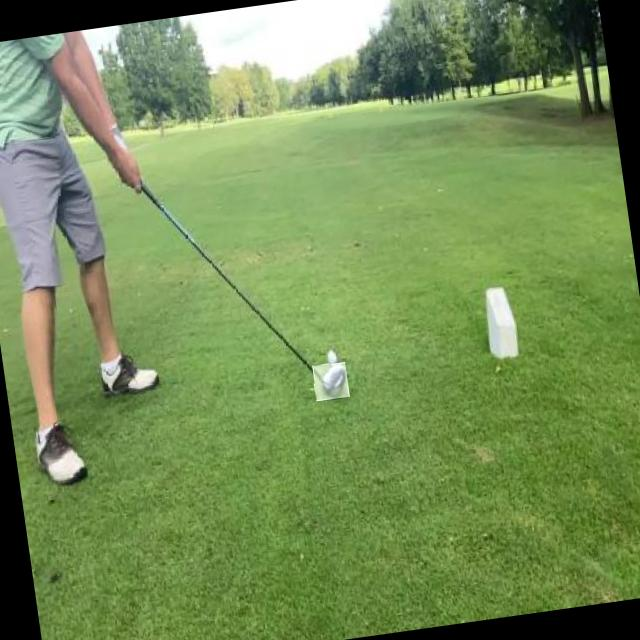club head: (312, 362, 350, 401)
